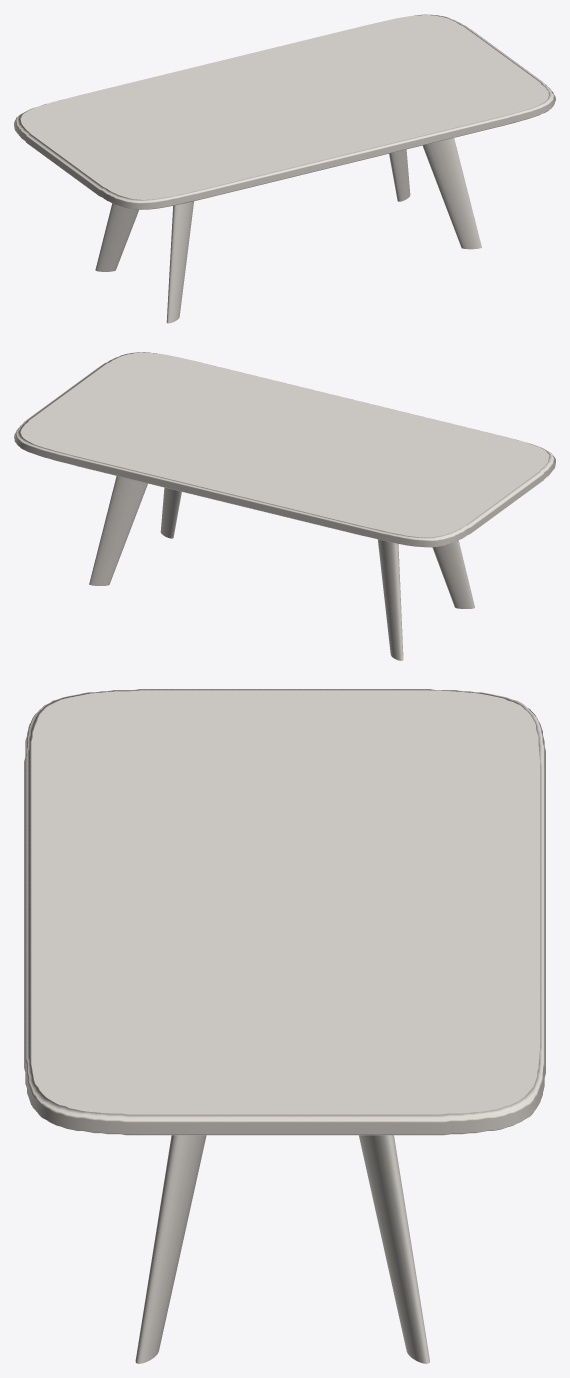
The model's file is pearlwhite_softrecta_round_ferdinantwalnut.glb.
3 views of the same model, one above another, from view 1: azimuth 30°, elevation 25°; view 2: azimuth 150°, elevation 25°; view 3: azimuth 270°, elevation 25° (orthographic). The views are drawn at different scales.
Parts seen in each view (by area): view 1: round_softrecta, ferdinandwalnut; view 2: round_softrecta, ferdinandwalnut; view 3: round_softrecta, ferdinandwalnut.
Part boxes in pixels (x1,y1,x2,y2): round_softrecta: (14,14,555,209); ferdinandwalnut: (95,138,481,323); round_softrecta: (14,352,555,547); ferdinandwalnut: (89,476,474,660); round_softrecta: (24,689,545,1135); ferdinandwalnut: (135,1135,429,1363).
Bounding box in the file's own units: 7.68 × 2.51 × 3.9.
1 material, 1 textured.
